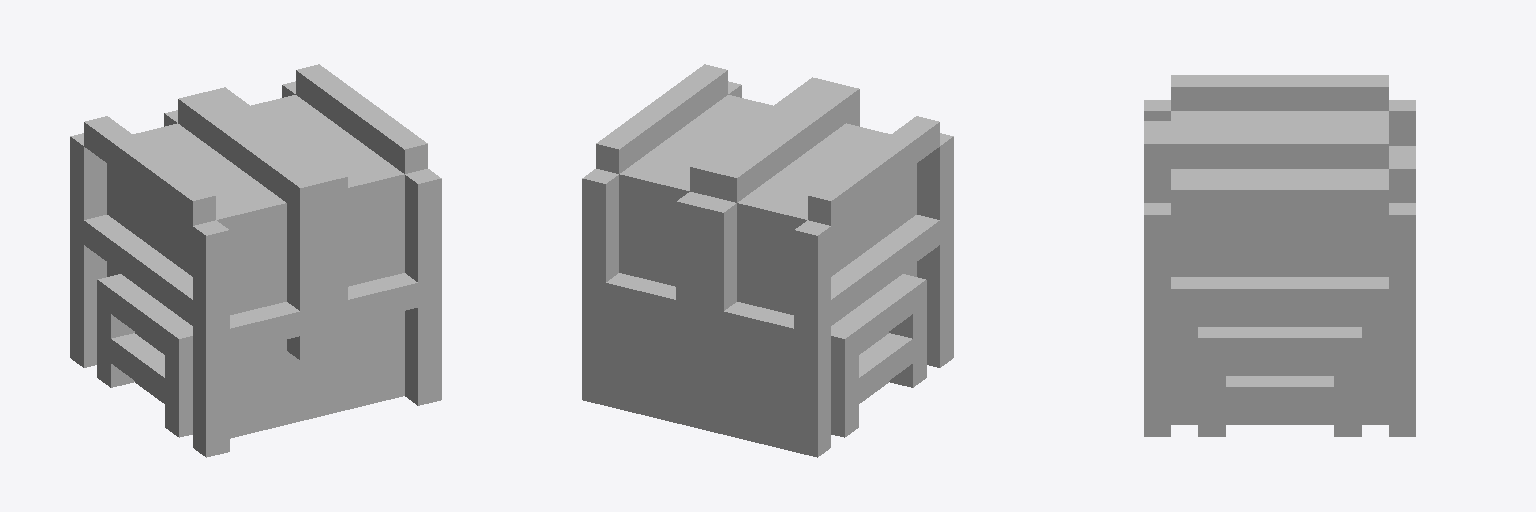
The model's file is chest.obj.
The picture shows the model from 3 angles: view 1: azimuth 30°, elevation 25°; view 2: azimuth 150°, elevation 25°; view 3: azimuth 270°, elevation 25°; orthographic projection.
Bounding box in the file's own units: 10 × 10 × 10.